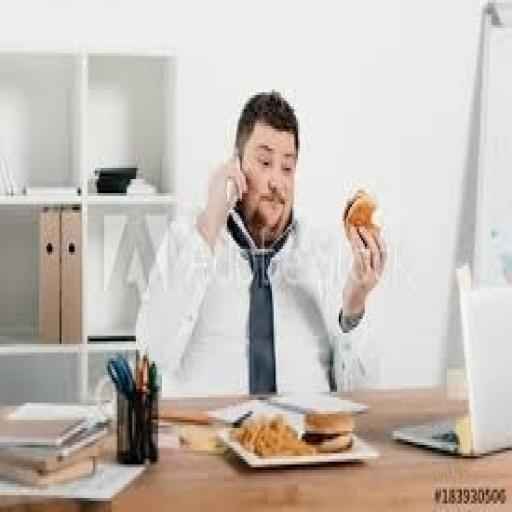eating: (132, 87, 389, 400)
